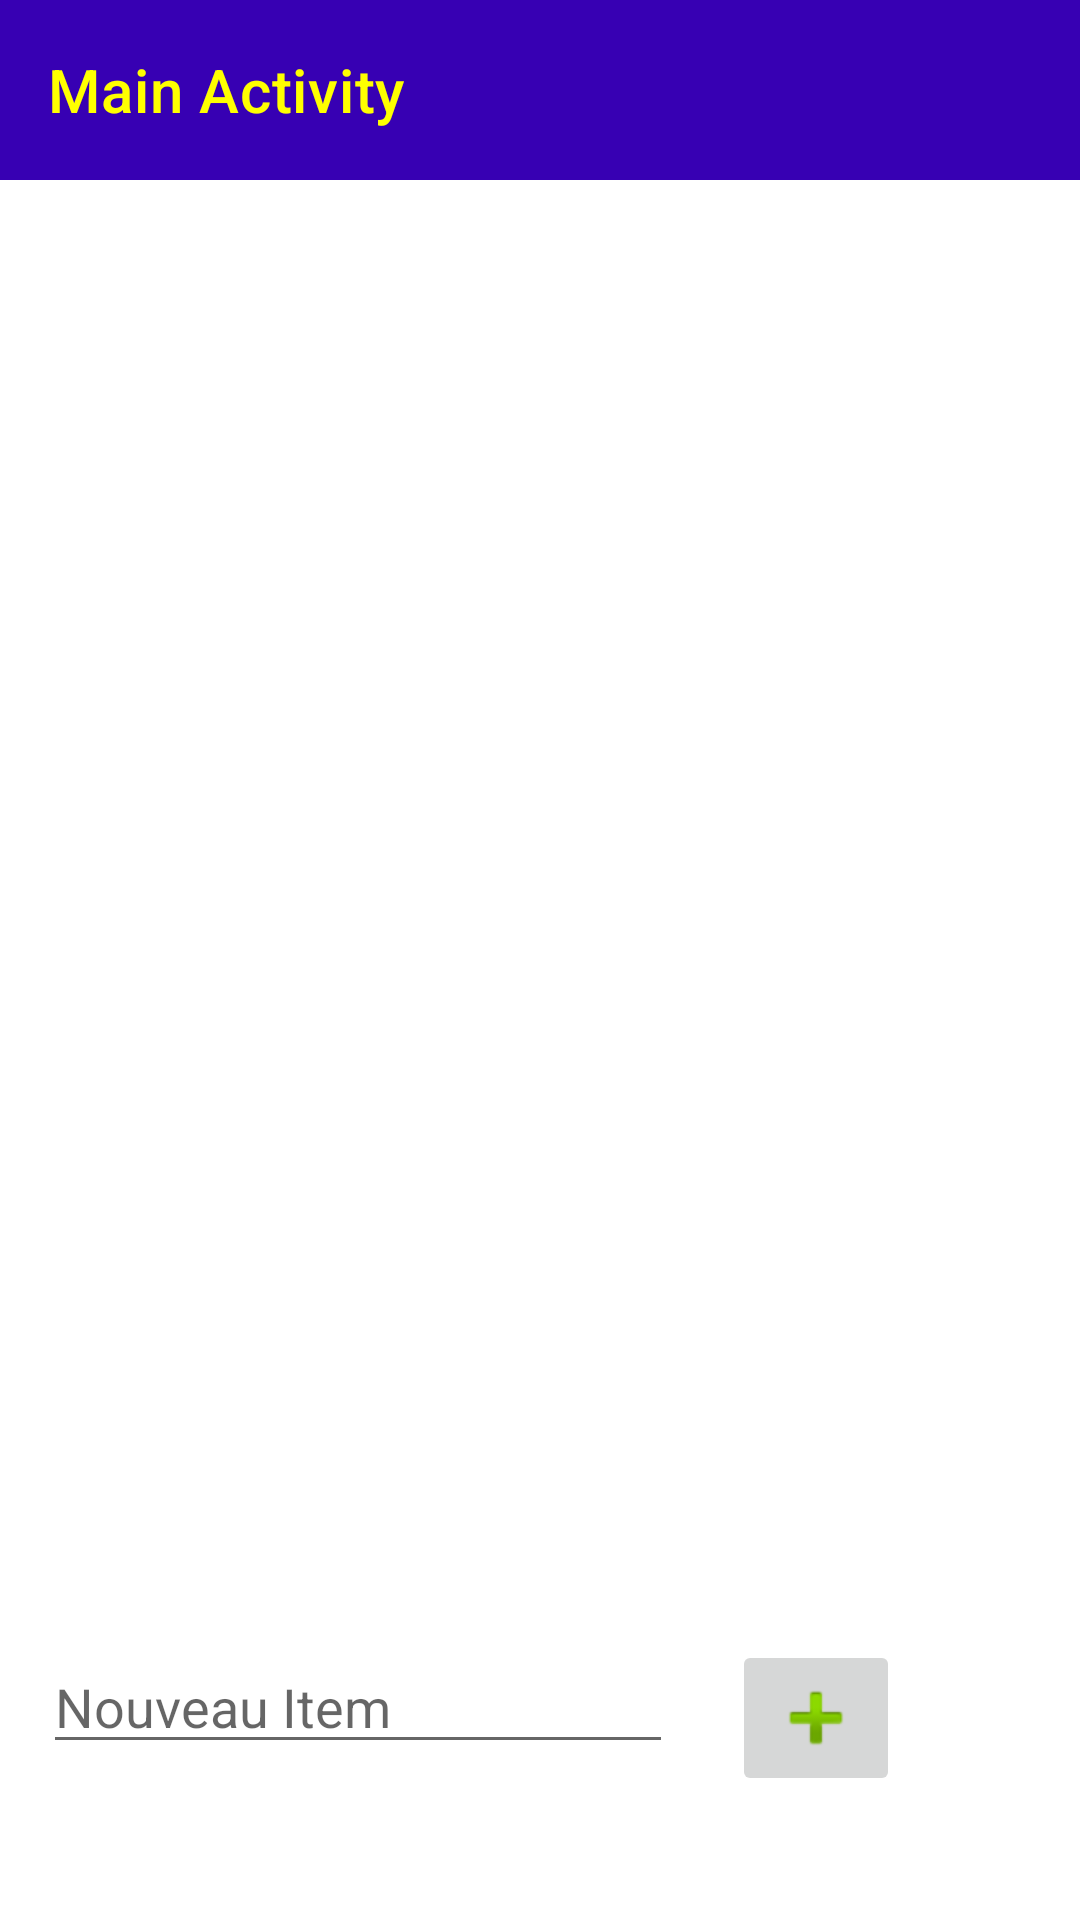

Where to tap for icons on this 1080 x 1920 app screen, as (x,y):
add: (816,1718)
